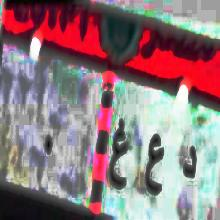0: (40, 126, 62, 170)
ain: (138, 131, 167, 209)
daal: (178, 132, 199, 199)
ghayn: (106, 111, 130, 198)
